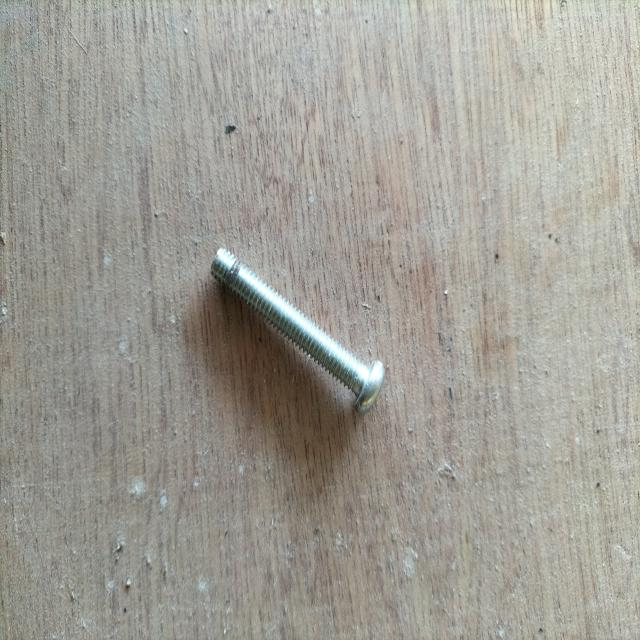bolt: (210, 248, 385, 417)
